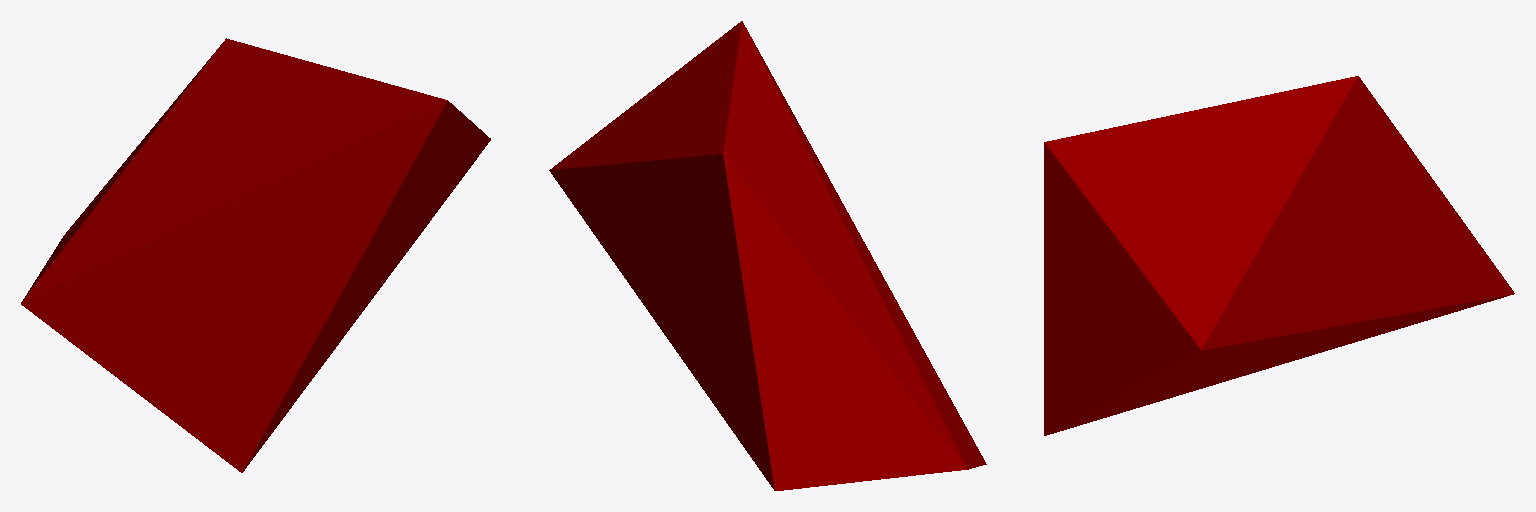
URDF robot description (asymmetric):
<?xml version="1.0"?>
<robot name="asymmetric" xmlns:drake="https://drake.mit.edu/">
    <link name="body">
        <inertial>
            <origin xyz="0 0 0" rpy="0 0 0"/>
            <mass value="0.25" />
            <inertia
                ixx="0.00081"
                ixy="0"
                ixz="0"
                iyy="0.00081"
                iyz="0"
                izz="0.00081"/>
        </inertial>
        <visual>
            <origin xyz="0 0 0" rpy="0 0 0" />
            <geometry>
                <mesh filename="contactnets_asymmetric.obj"/>
            </geometry>
            <material name="pennred">
                <color rgba="0.6 0 0 1.0" />
            </material>
        </visual>
        <collision>
            <geometry>
                <mesh filename="contactnets_asymmetric.obj"/>
            </geometry>
            <origin xyz="0 0 0" rpy="0 0 0" />
            <drake:proximity_properties>
                <drake:mu_static value="0.15" />
            </drake:proximity_properties>
        </collision>
    </link>
</robot>

--- Render facts (derived) ---
Views: 3 orthographic renders of the robot side by side, from view 1: azimuth 30°, elevation 25°; view 2: azimuth 150°, elevation 25°; view 3: azimuth 270°, elevation 25°.
Robot: asymmetric — 1 links, 0 joints (none); root link body; default pose: all joints at 0.
Links seen in each view (by area): view 1: body; view 2: body; view 3: body.
Link boxes in pixels (x1=…): body: x1=21, y1=38, x2=490, y2=472; body: x1=549, y1=21, x2=986, y2=490; body: x1=1044, y1=76, x2=1514, y2=435.
Bounding box of the posed robot: 0.1 × 0.075 × 0.075 m (x, y, z).
Meshes: 1 distinct files referenced, 1 mesh visuals loaded (1 OBJ).
